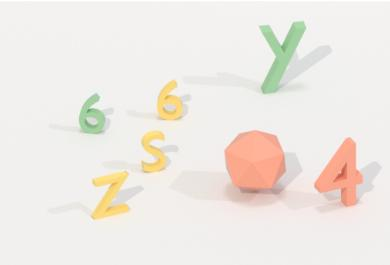0-TronCanh: (218, 127, 290, 198)
4: (312, 131, 367, 215)
6: (75, 89, 108, 136), (154, 76, 186, 124)
S: (137, 125, 169, 177)
Z: (86, 167, 137, 225)
y: (255, 18, 308, 98)
